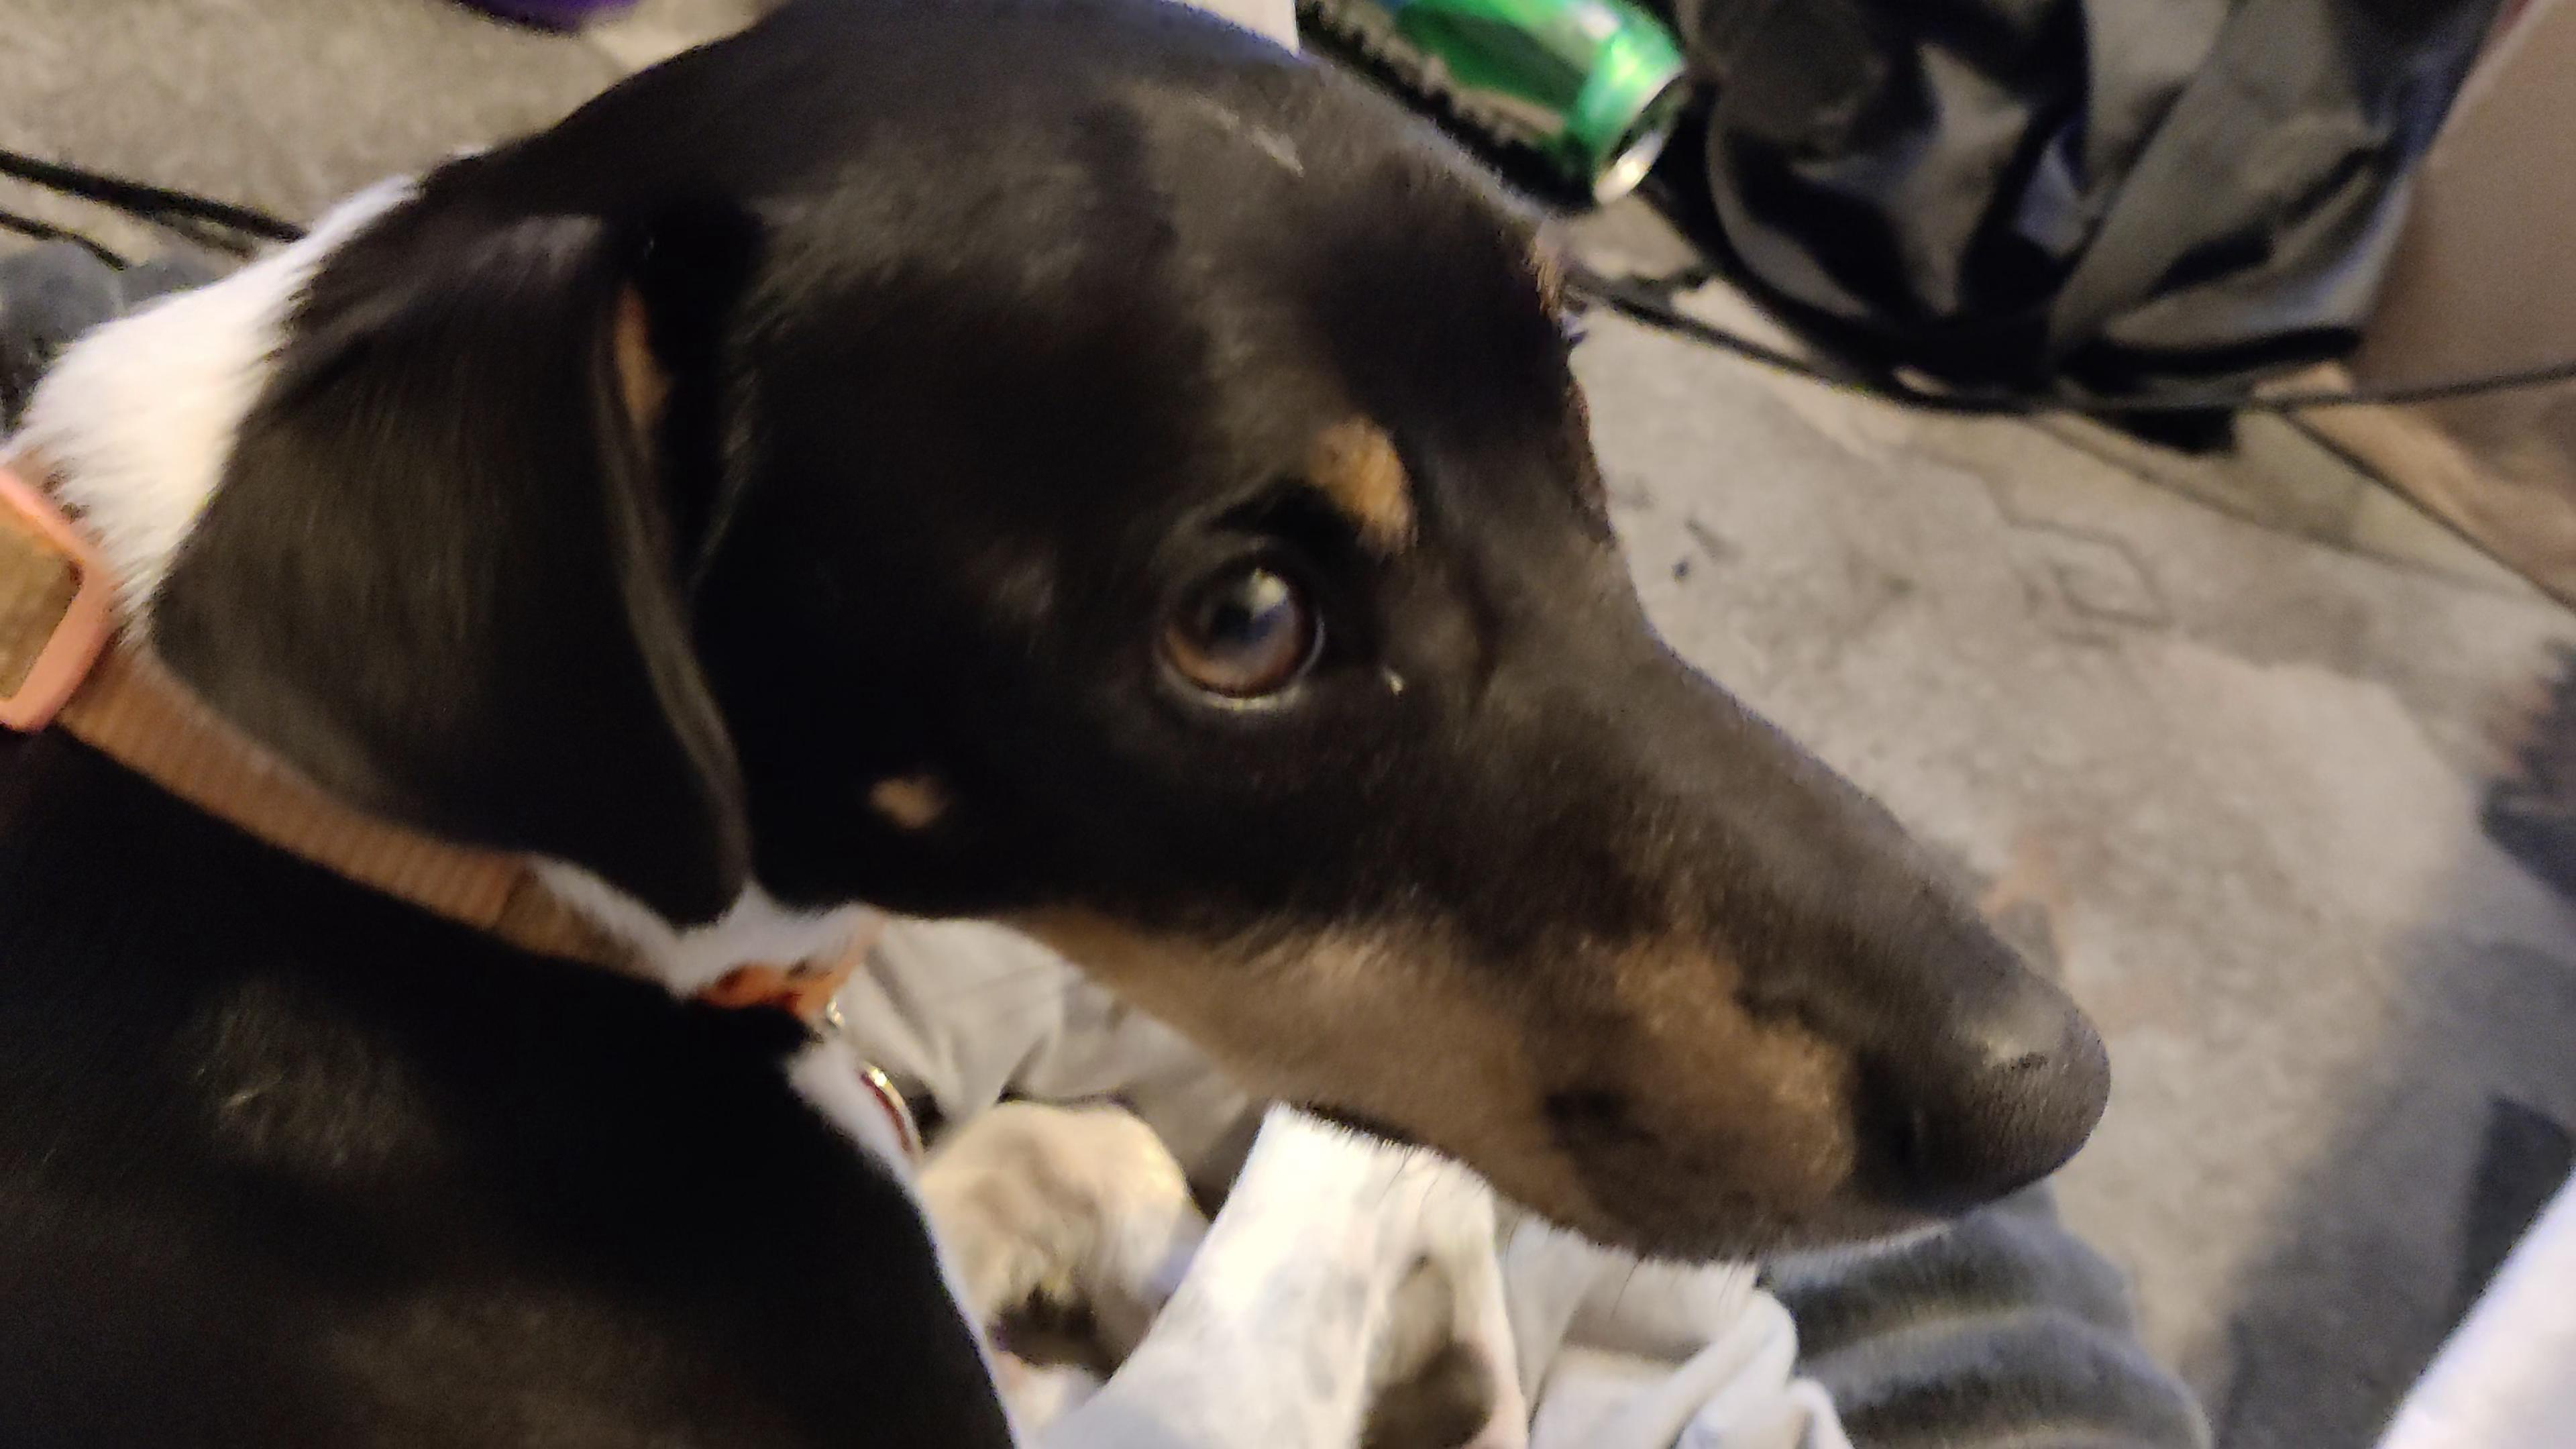Dog: (0, 0, 2123, 1449)
